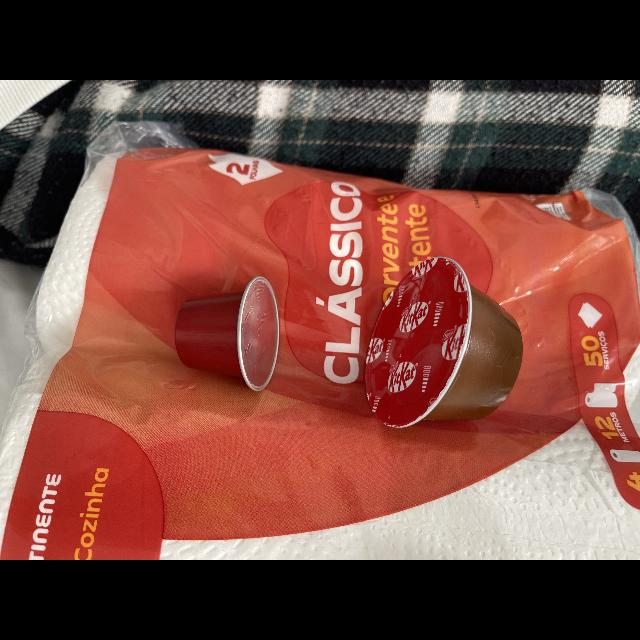intact_capsule: (354, 244, 530, 453), (159, 269, 299, 397)
